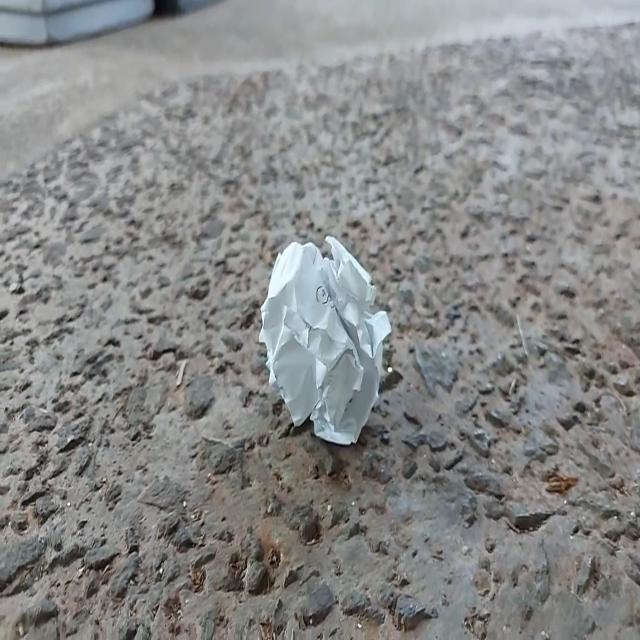Paper: (253, 222, 400, 461)
